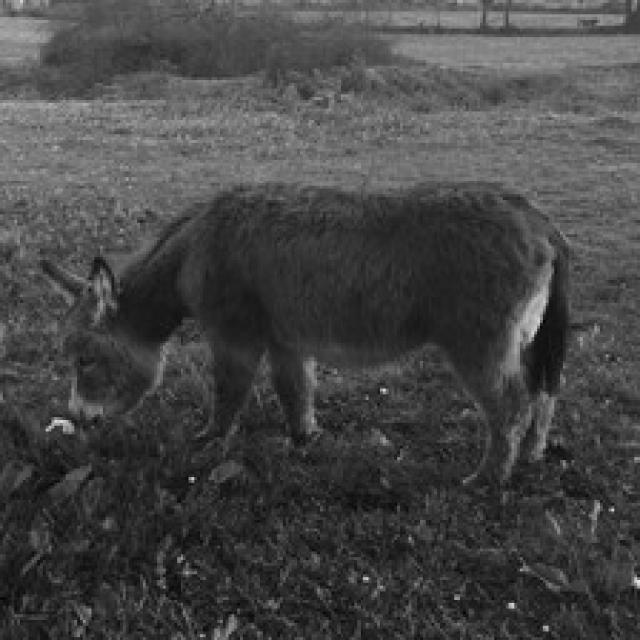Donkey: (37, 175, 572, 494)
